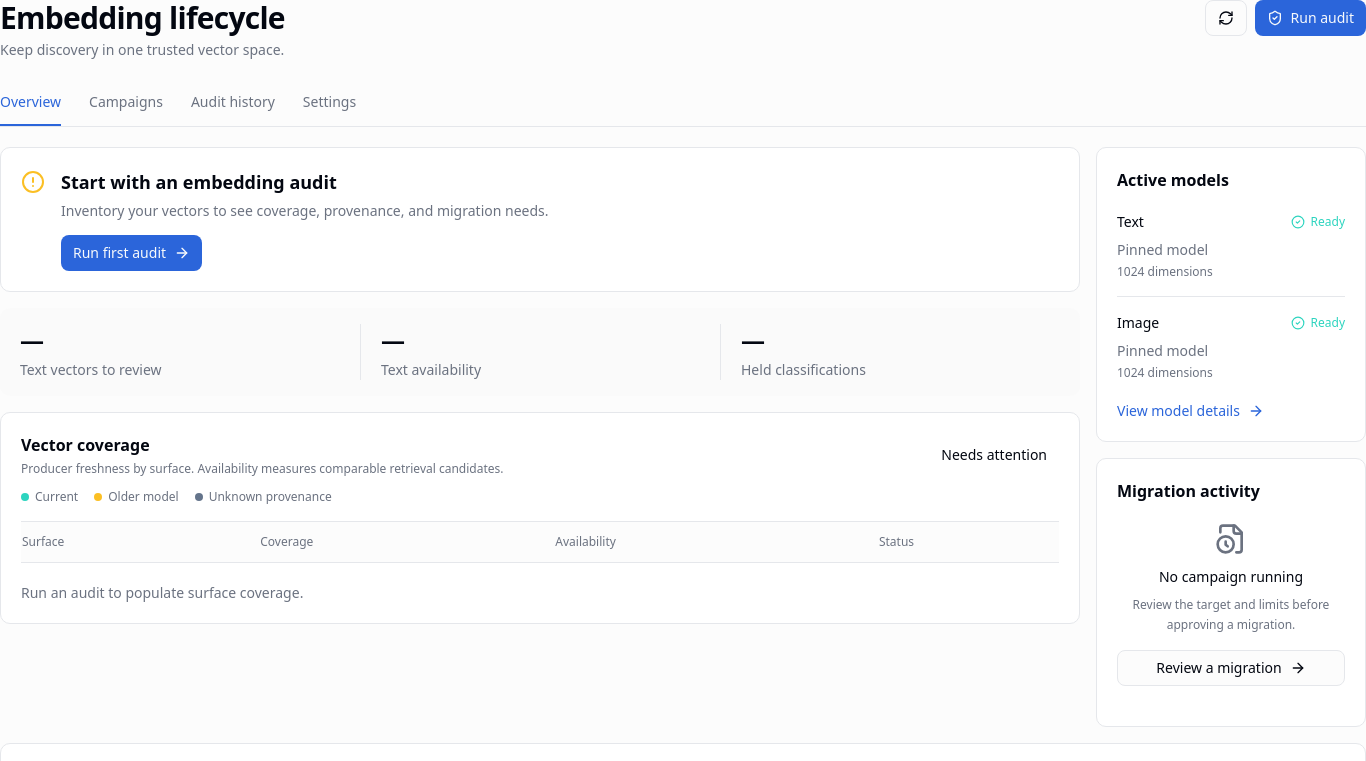
Test: makes every exception reachable and loads terminal action history
The image size is (1366, 761).
Click the tab "Campaigns": [126, 103] box [89, 80, 163, 126]
(page scrolled)
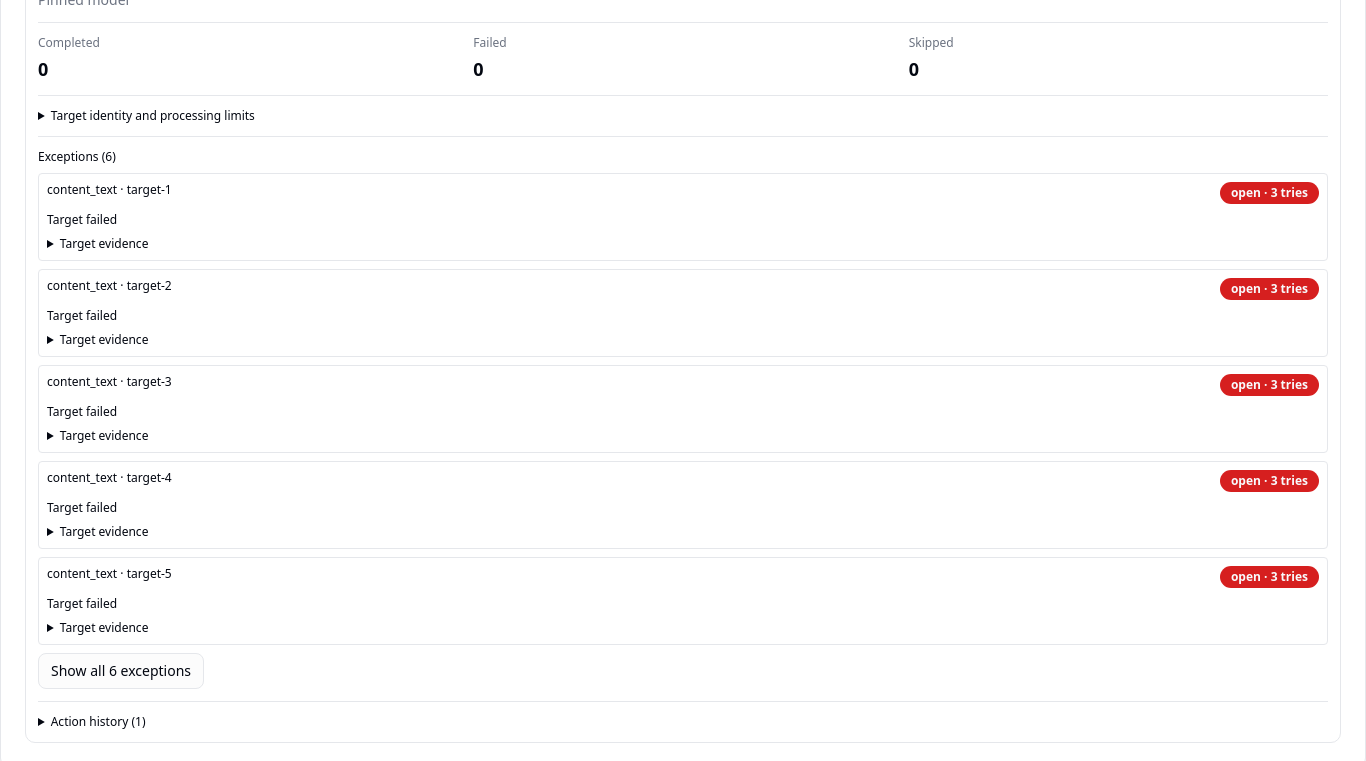
Expected: the text "content_text · target-6" is not shown
Click the button "Show all 6 exceptions": [121, 671] box [38, 653, 204, 689]
(page scrolled)
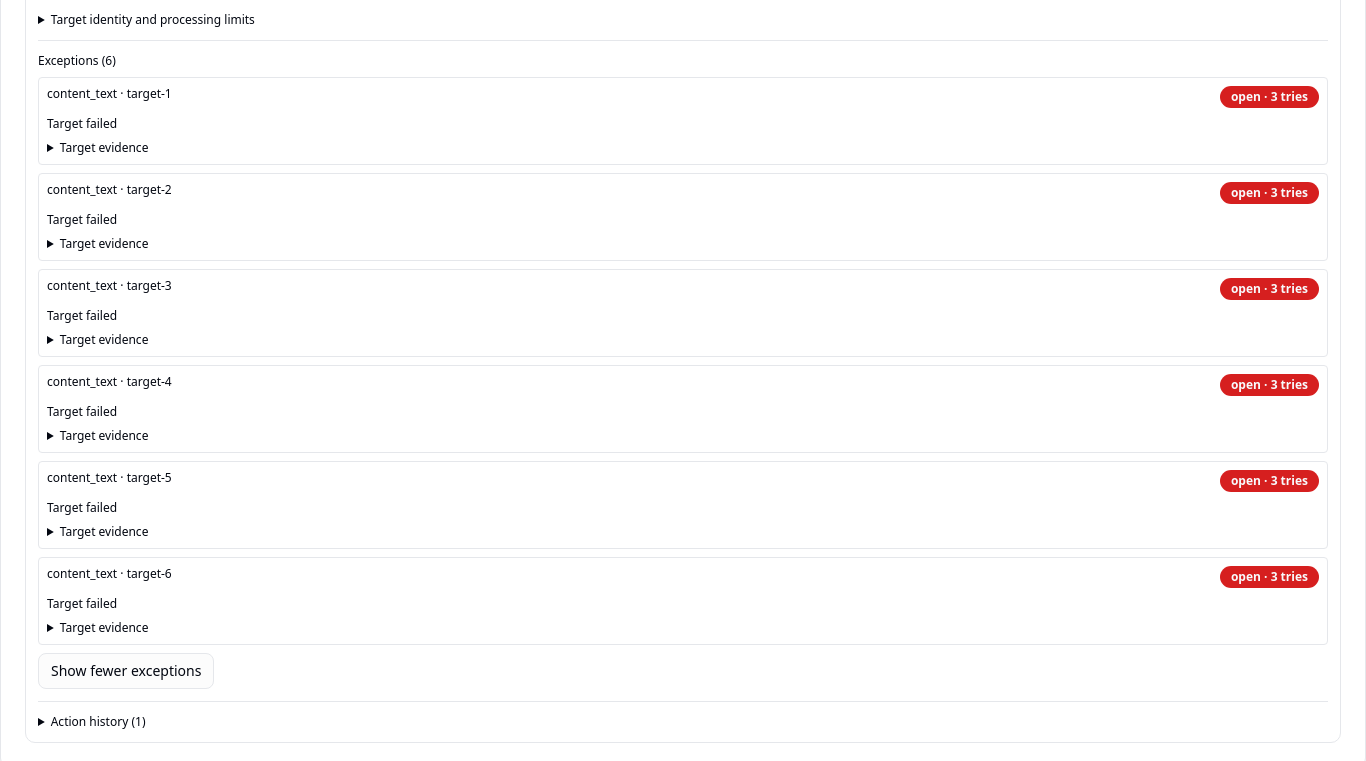
Expected: the text "content_text · target-6" is shown, [47, 566, 172, 588]
Click the heading "Action history (1)": [98, 722] box [51, 713, 146, 730]
(page scrolled)
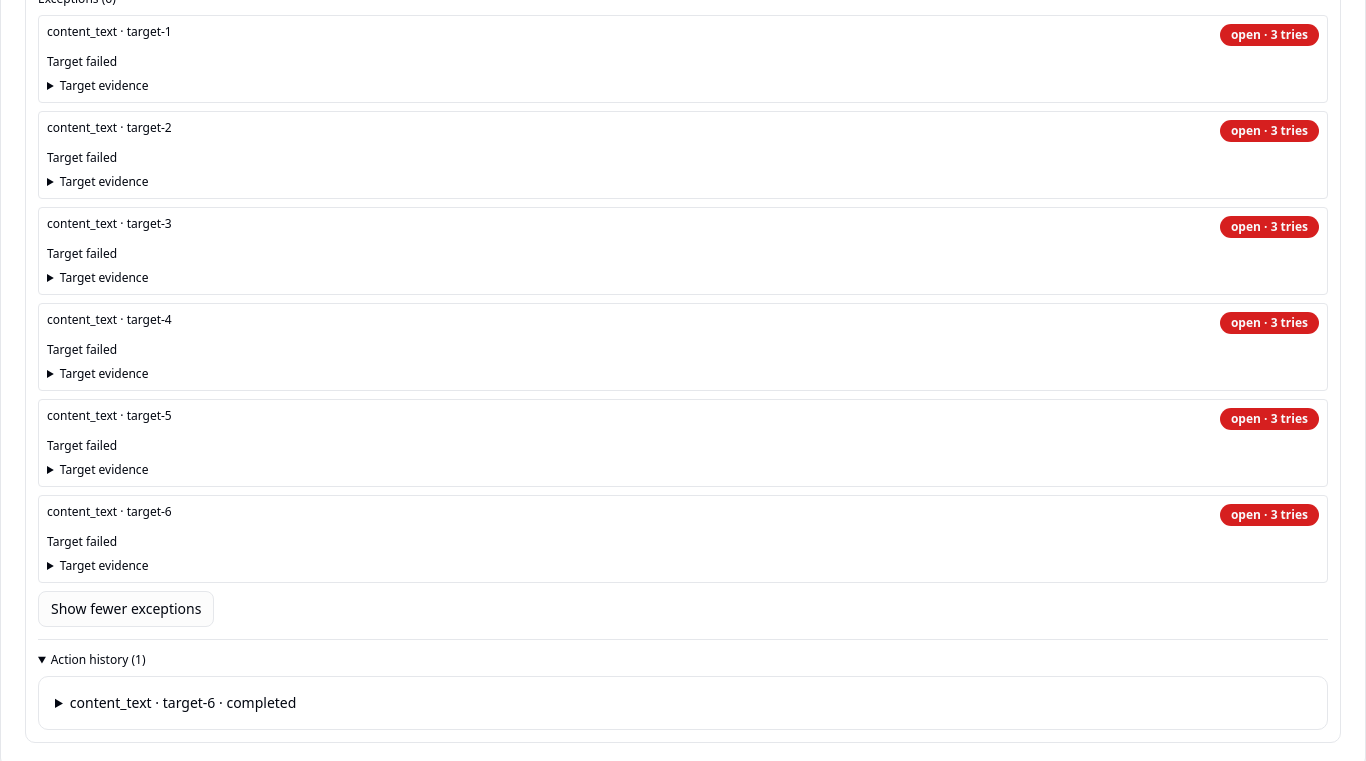
Expected: the heading "content_text · target-6 · completed" is shown, [70, 693, 296, 712]
